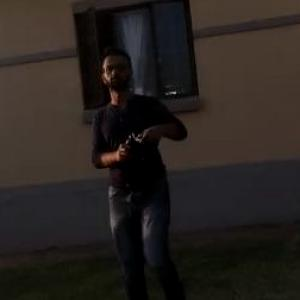follow: (87, 34, 201, 299)
